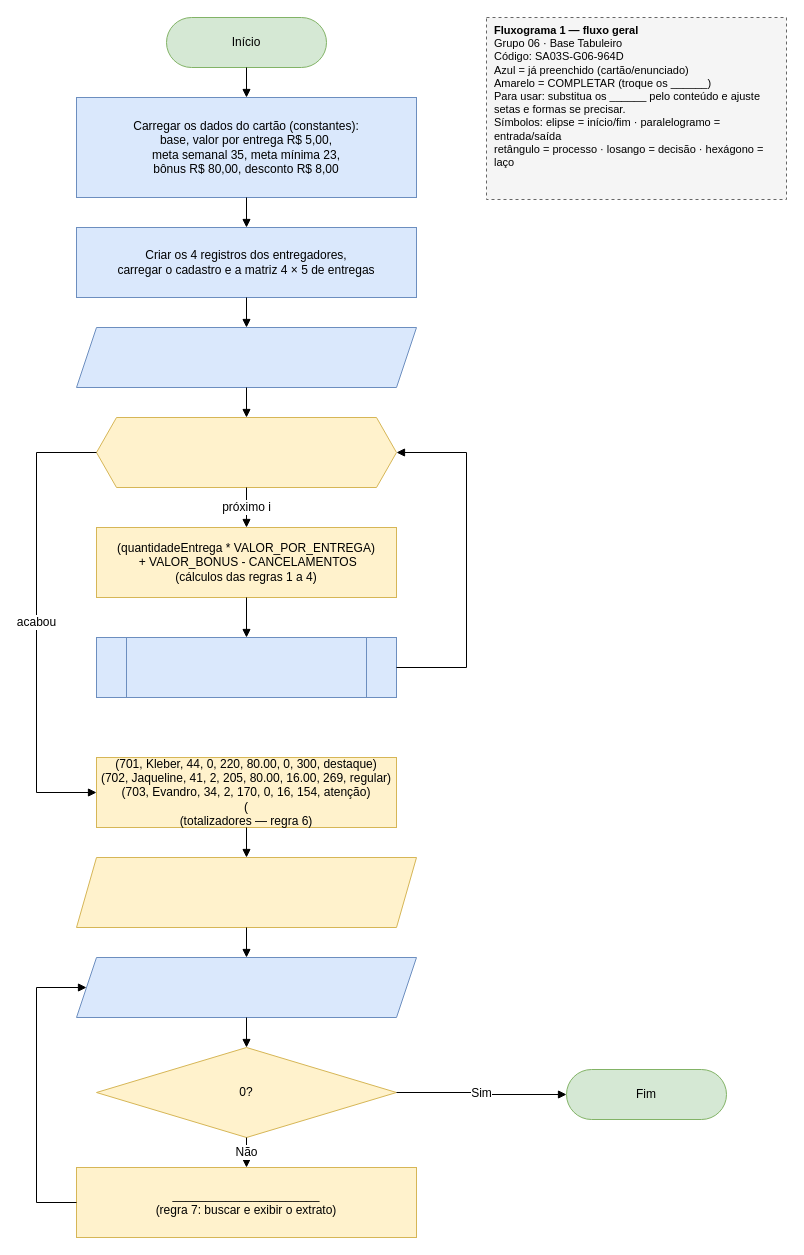
Image size: 804x1255. Some labels were removed from this diagram. The centre of each missing label's shape, as x and y in pixels:
Decisão da situação (ver fluxograma 2): point (246, 667)
Exibir o código de autenticidade SA03S-G06-964D: point (246, 357)
Exibir o relatório da base (total a pagar: total de entregas da semana:: point (246, 892)
Ler o código do entregador (teclado): point (246, 987)
PARA cada entregador (i = _0_ até _3_): point (246, 452)
